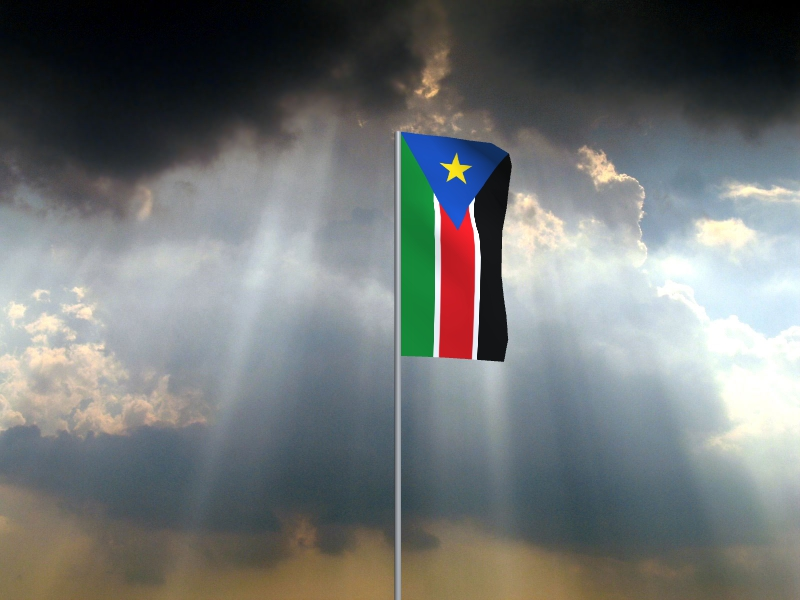ss: (401, 131, 514, 364)
